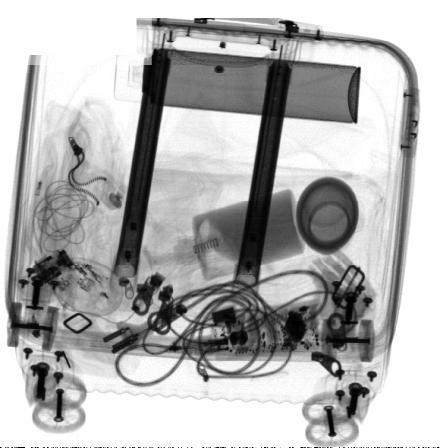Sprayer: (114, 45, 360, 124)
